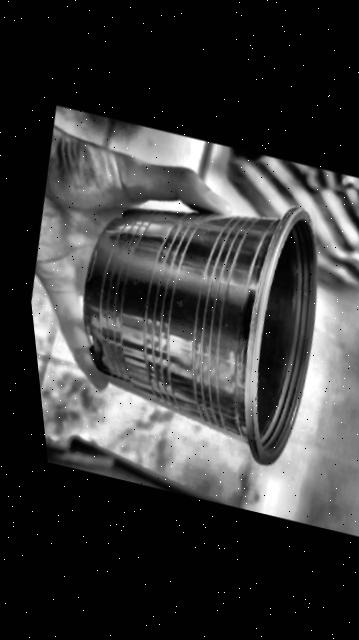pot: (82, 207, 315, 464)
